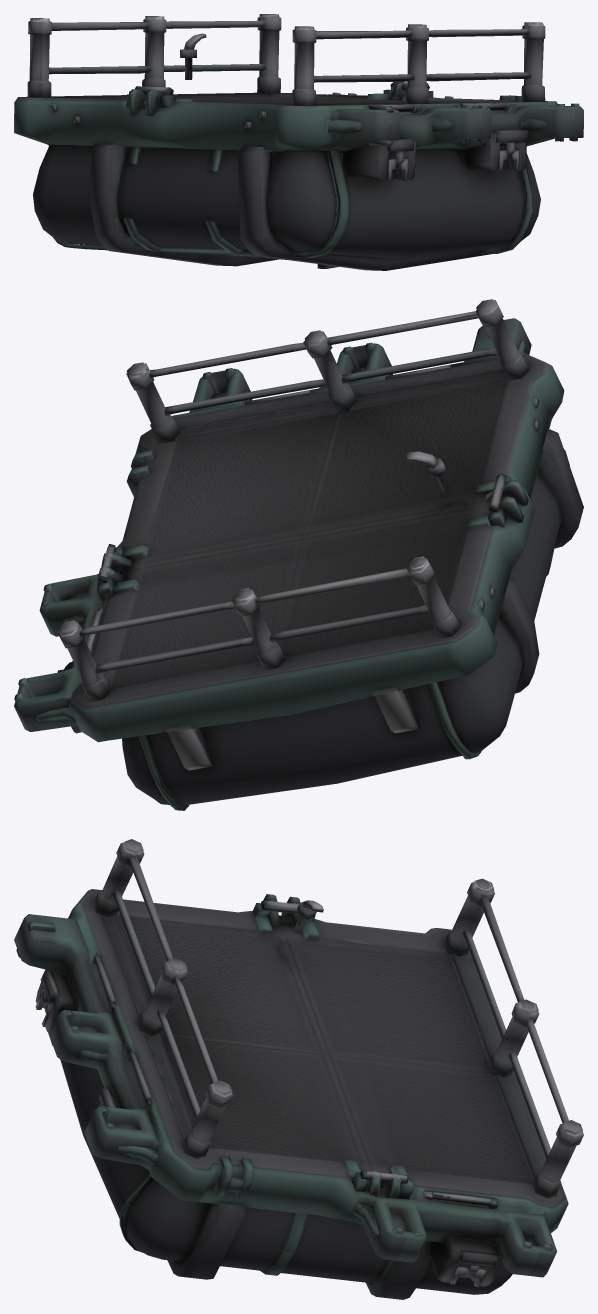
File: modular_01.fbx
3 renders of one model, top to bottom at view 1: azimuth 30°, elevation 25°; view 2: azimuth 150°, elevation 25°; view 3: azimuth 270°, elevation 25°, orthographic. The views are drawn at different scales.
Visible parts, largest first — view 1: modular_01; view 2: modular_01; view 3: modular_01.
Boxes of the visible parts, x1=… form: modular_01: x1=14, y1=14, x2=583, y2=270; modular_01: x1=14, y1=299, x2=583, y2=810; modular_01: x1=14, y1=839, x2=583, y2=1299.
Size of the model in its own units: 3.71 by 2.98 by 3.95.
Materials: 1 (1 with a texture image).
